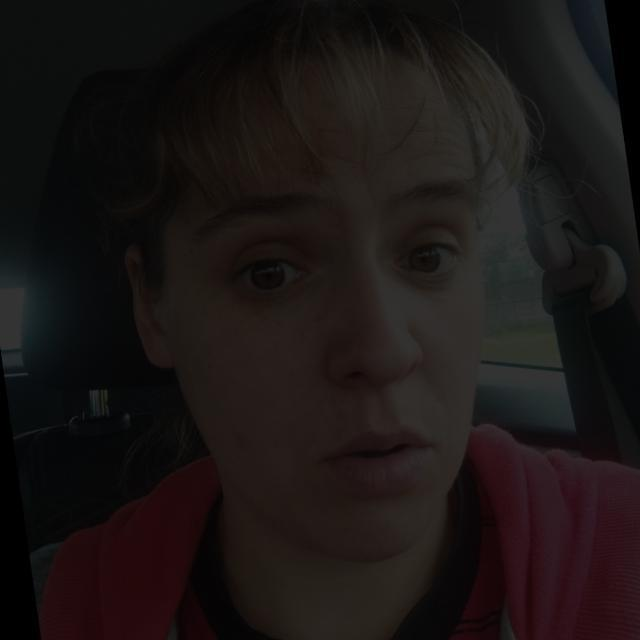Surprised: (137, 137, 520, 545)
